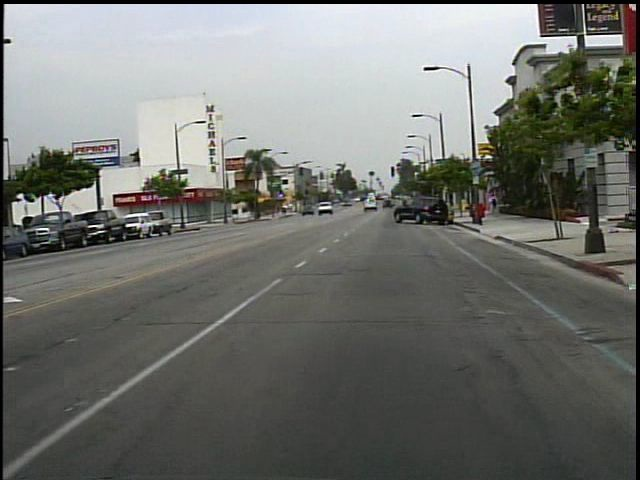person: (490, 190, 505, 221)
